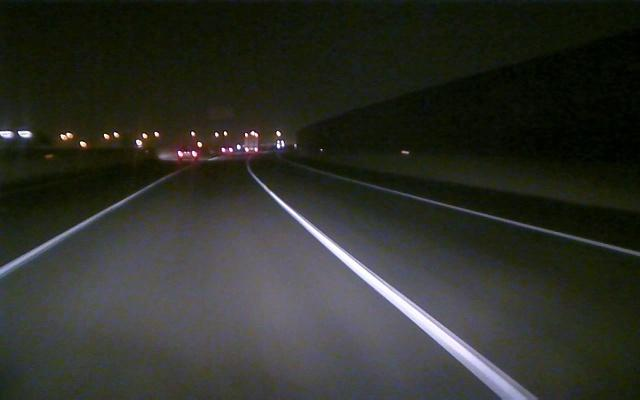lane: (255, 180, 539, 399), (335, 175, 640, 258), (2, 185, 150, 275)
